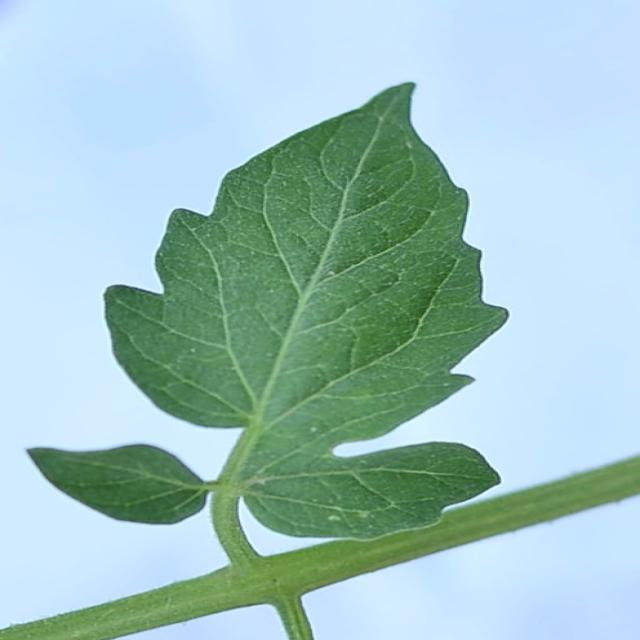healthy: (19, 77, 516, 554)
